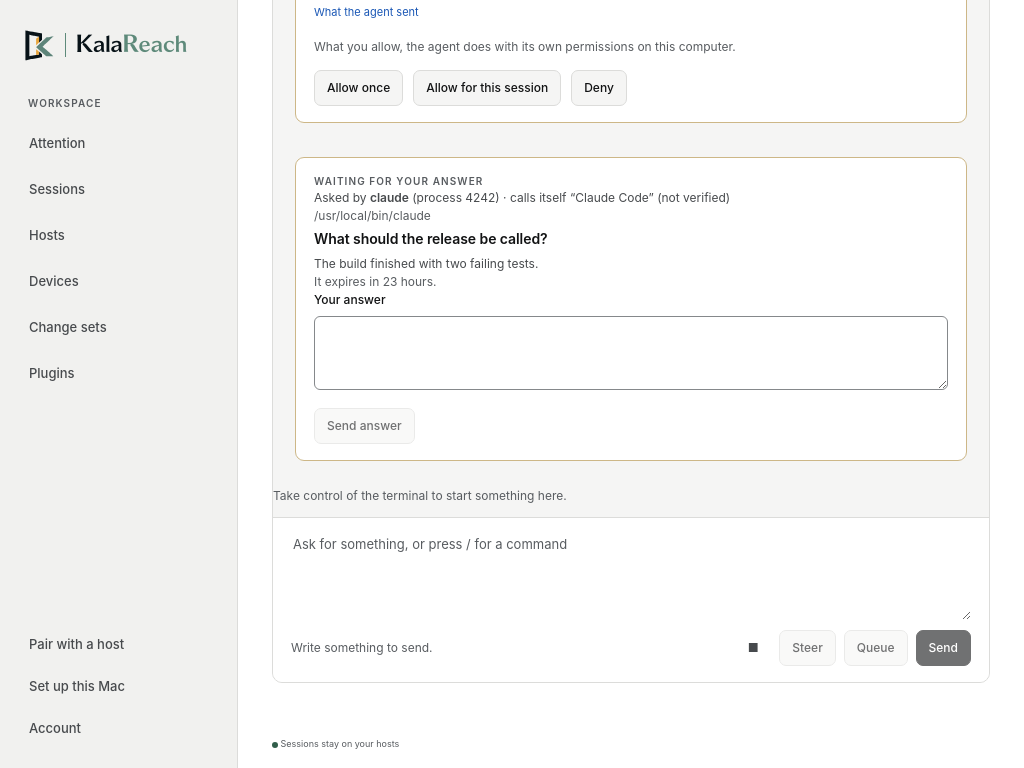
Test: a prompt the host did not take, and the text it was sent from (KR-REQ-13.13, 24.13) › keeps what was sent and what was written meanwhile, and the person finds the first in the kept drafts
(page scrolled)
Type "send this" into the text box with test id "composer-input" at [631, 577], box top-left (291, 534), bottom-right (971, 620)
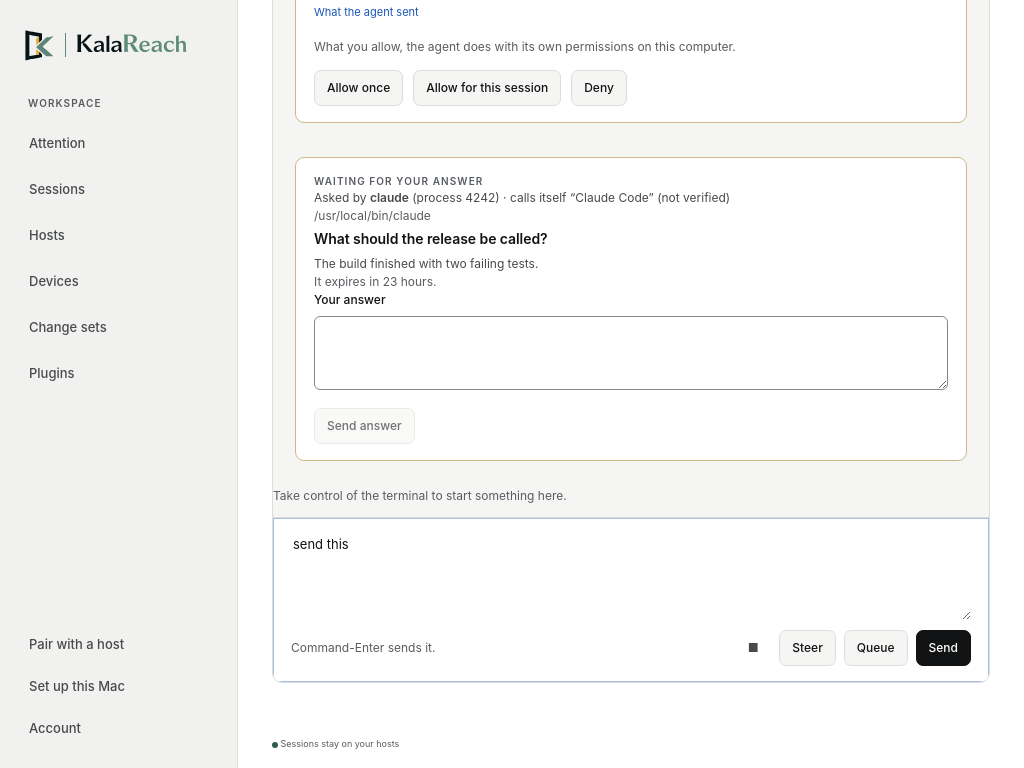
Check: the button with test id "composer-send" is enabled
Click the button with test id "composer-send" at [943, 648], box top-left (916, 630), bottom-right (971, 666)
(page scrolled)
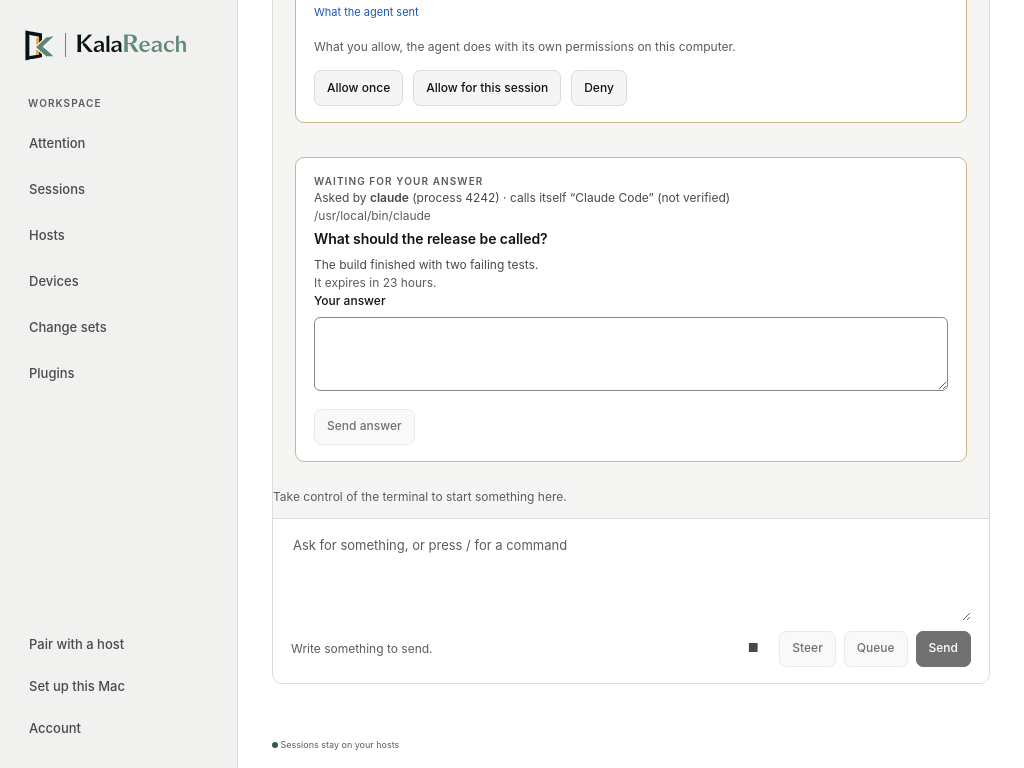
The composer is empty and the person writes the next thing while the prompt is on its way.
Type "the next thing" into the text box with test id "composer-input" at [631, 578], box top-left (291, 535), bottom-right (971, 621)
(page scrolled)
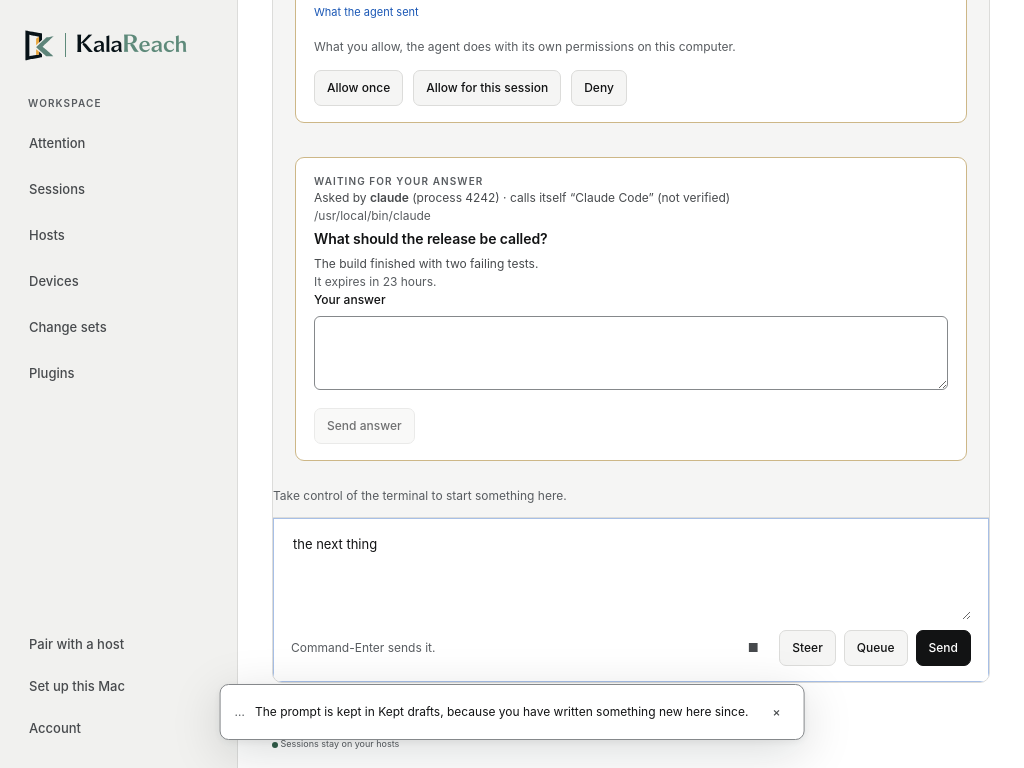
Click the button "Sessions" at [118, 190], box top-left (16, 169), bottom-right (221, 211)
(page scrolled)
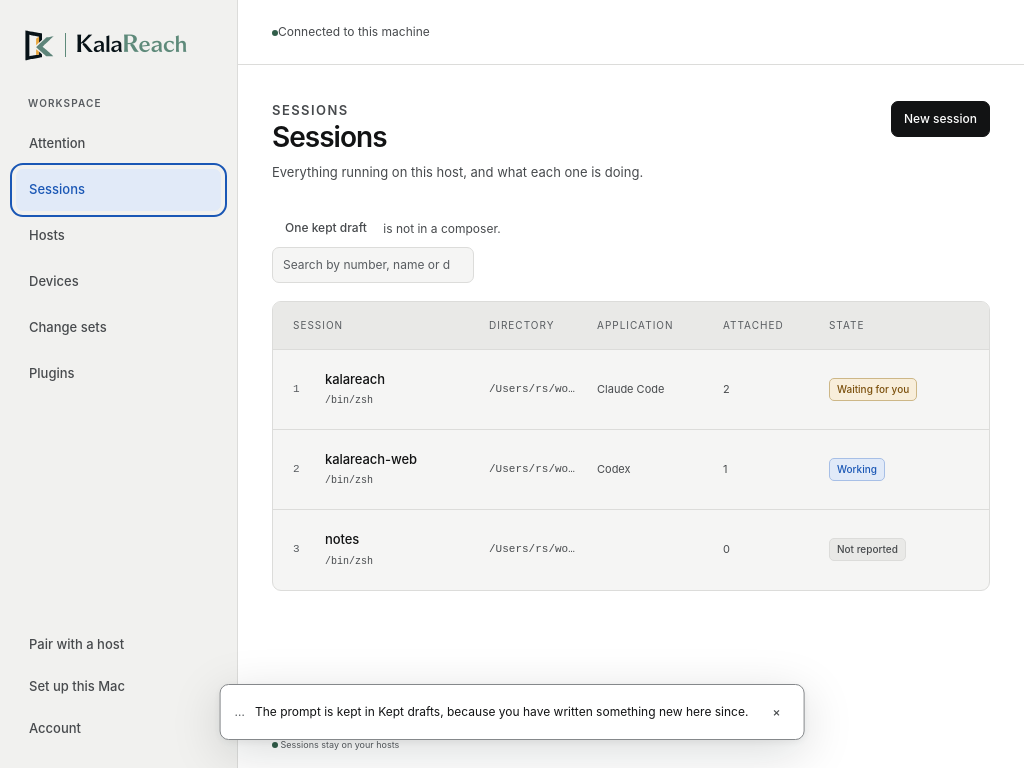
Click the button "One kept draft" at [326, 229], box top-left (272, 211), bottom-right (380, 247)
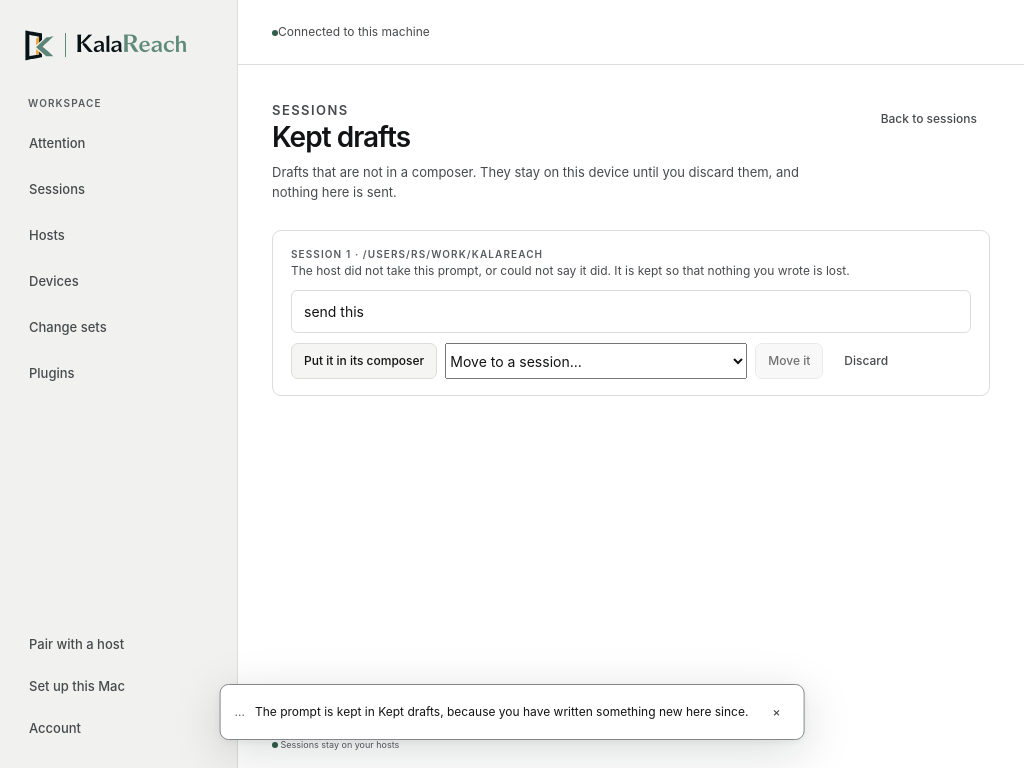
Check: the text with test id "kept-draft-text" reads "send this", box top-left (304, 303), bottom-right (364, 320)
